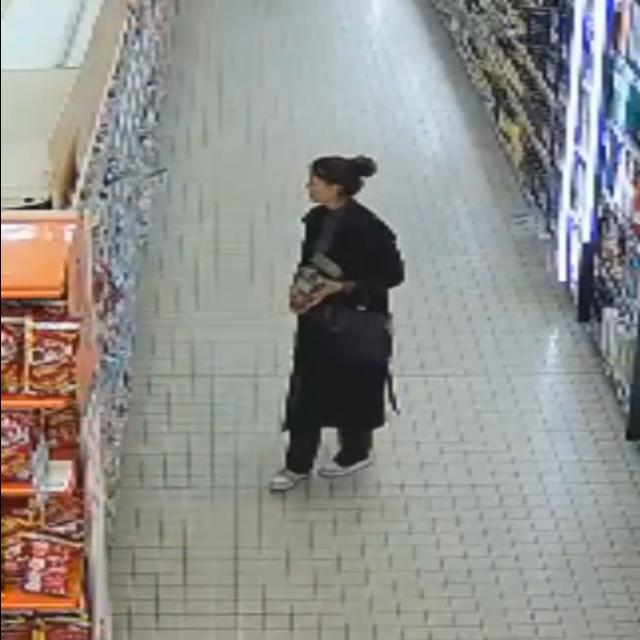article: (294, 261, 328, 295), (311, 252, 343, 279), (289, 287, 309, 312)
bags: (307, 302, 392, 363)
hands: (307, 277, 343, 307)
person: (271, 157, 404, 491)
